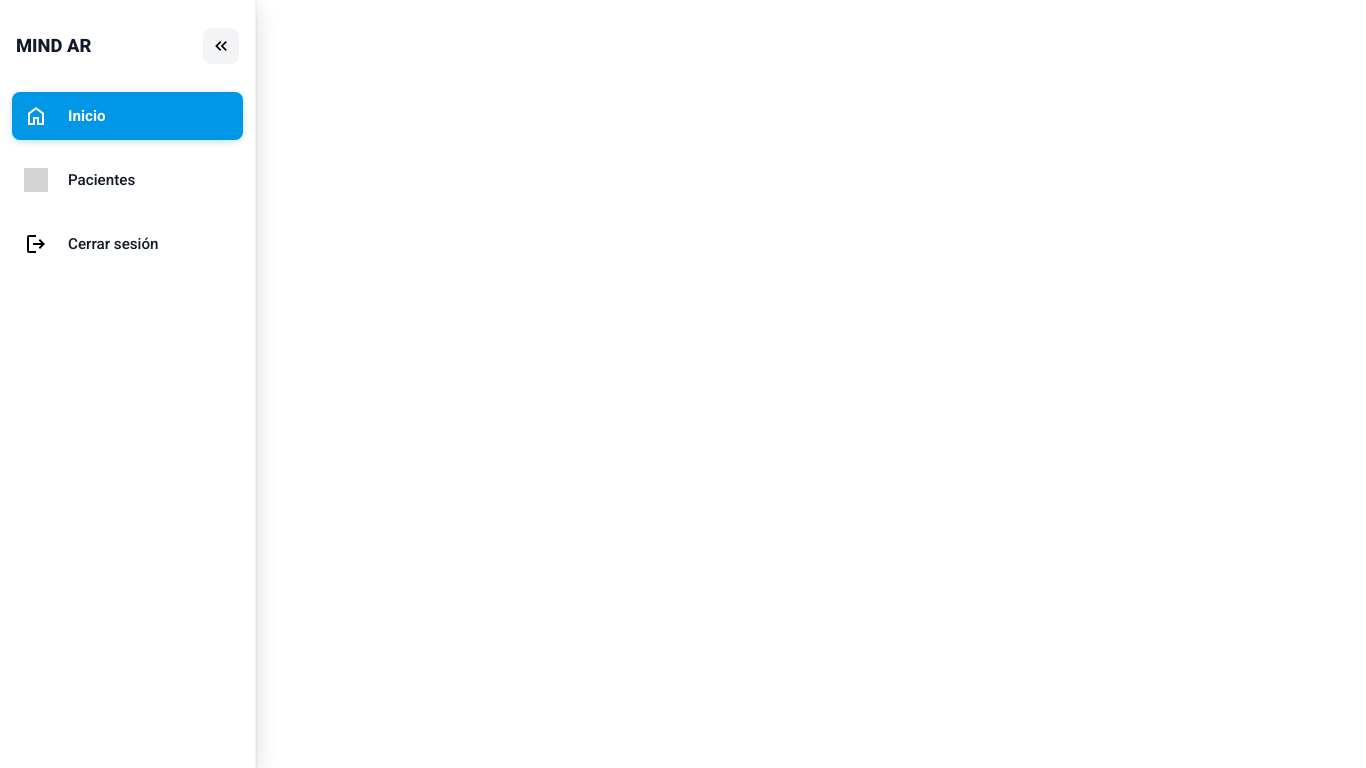
Sidebar › muestra el modal de logout al hacer clic en el link de logout
What coordinates should you click on to do the following:
click the button "Cerrar sesión"
I would click on:
 (91, 244)
Its box is [24,232,159,256].
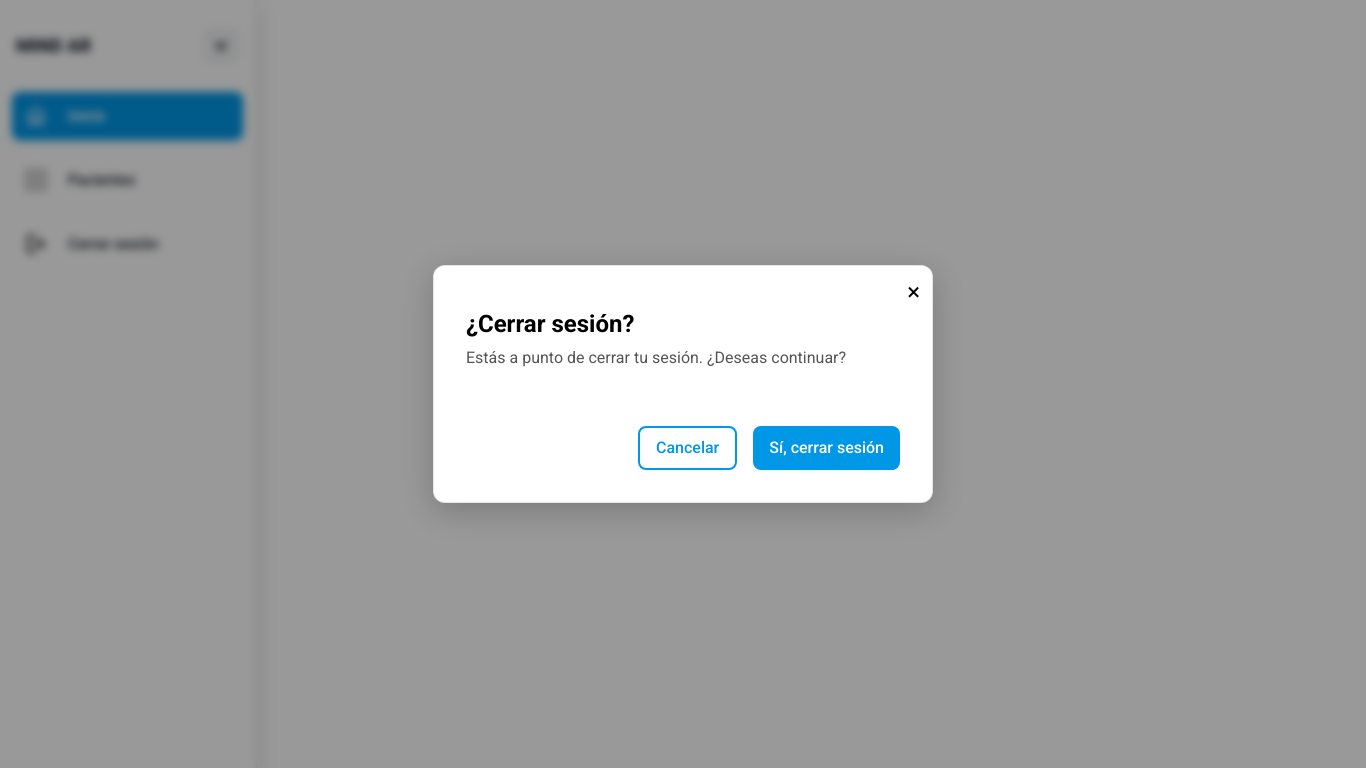
Now the heading "¿Cerrar sesión?" is shown, box [466,310,634,338]
